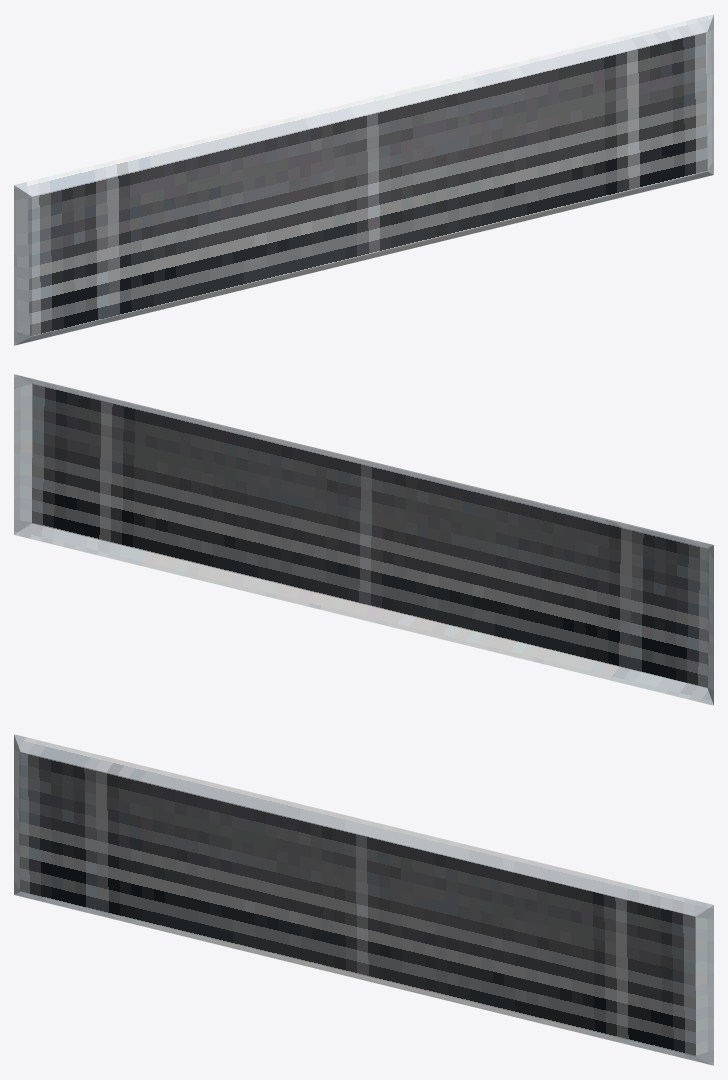
File: ac-grill.glb
3 renders of one model, top to bottom at view 1: azimuth 30°, elevation 25°; view 2: azimuth 150°, elevation 25°; view 3: azimuth 330°, elevation 25°, orthographic.
Visible parts, largest first — view 1: ac-grill; view 2: ac-grill; view 3: ac-grill.
Part boxes in pixels (box(x1,y1,x2,y2)): ac-grill: box(14, 14, 713, 345); ac-grill: box(14, 374, 713, 705); ac-grill: box(14, 734, 713, 1065).
Bounding box in the file's own units: 0.5015 × 0.1101 × 0.00709.
1 material, 1 textured.
